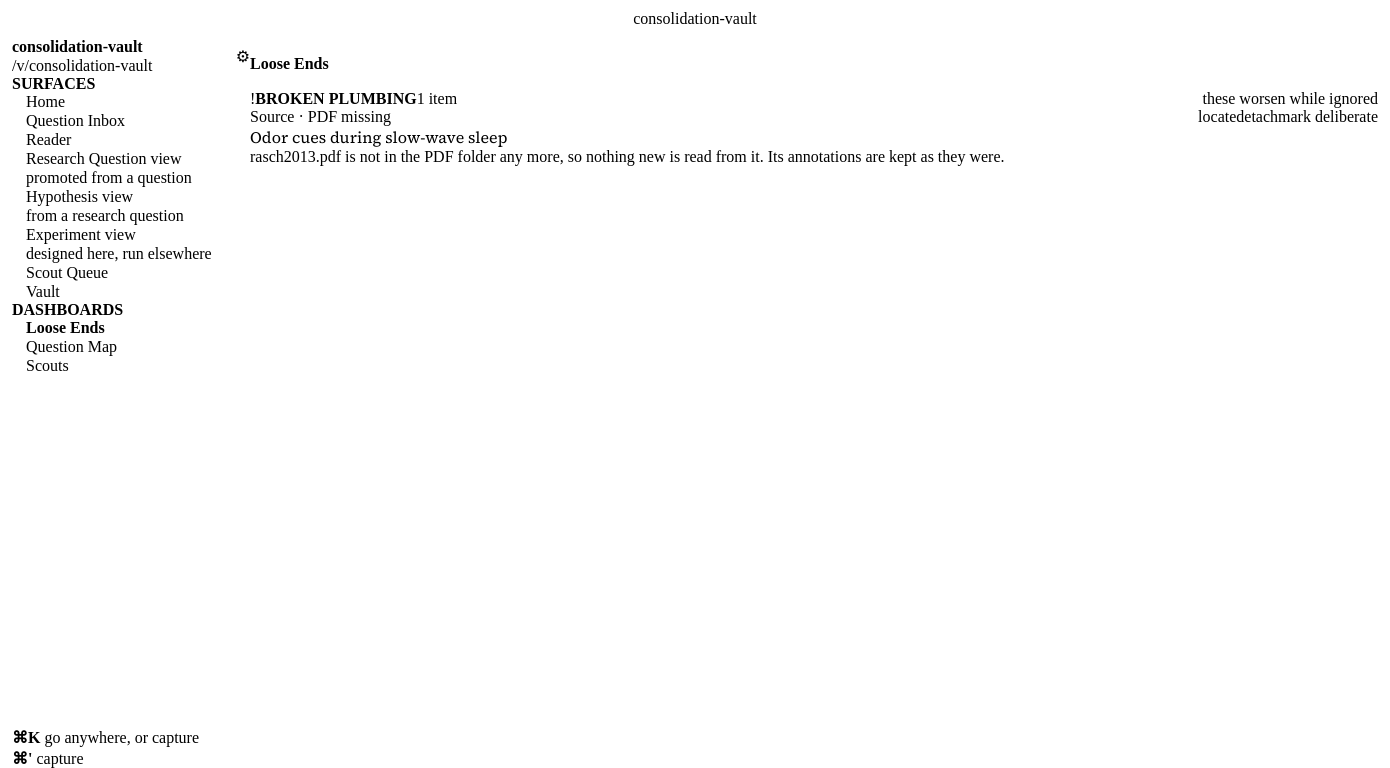
a PDF missing row › says the core's plain refusal when the file is not the same document, and keeps the choices
Click the button "locate" at (1217, 117), box [1198, 108, 1236, 126]
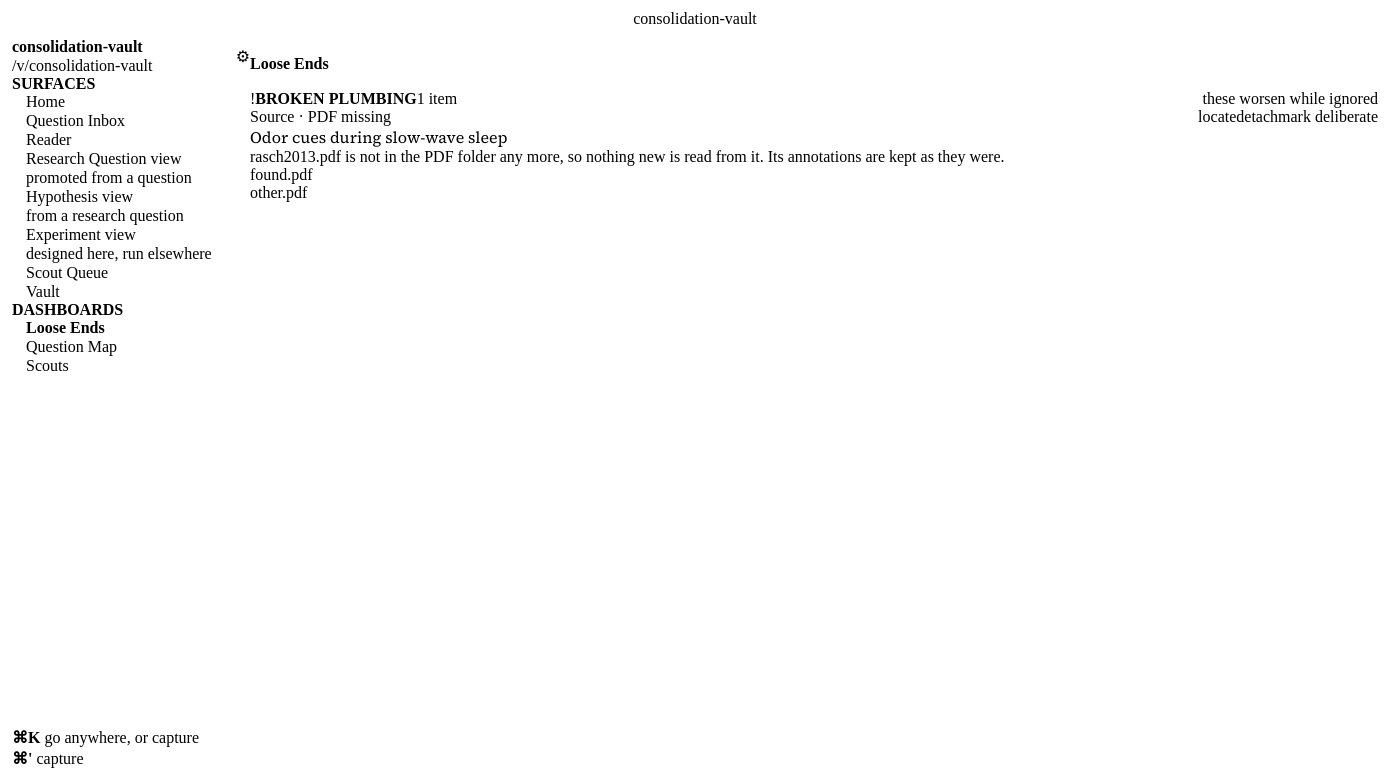
Click the button "other.pdf" at (279, 193), box [250, 184, 307, 202]
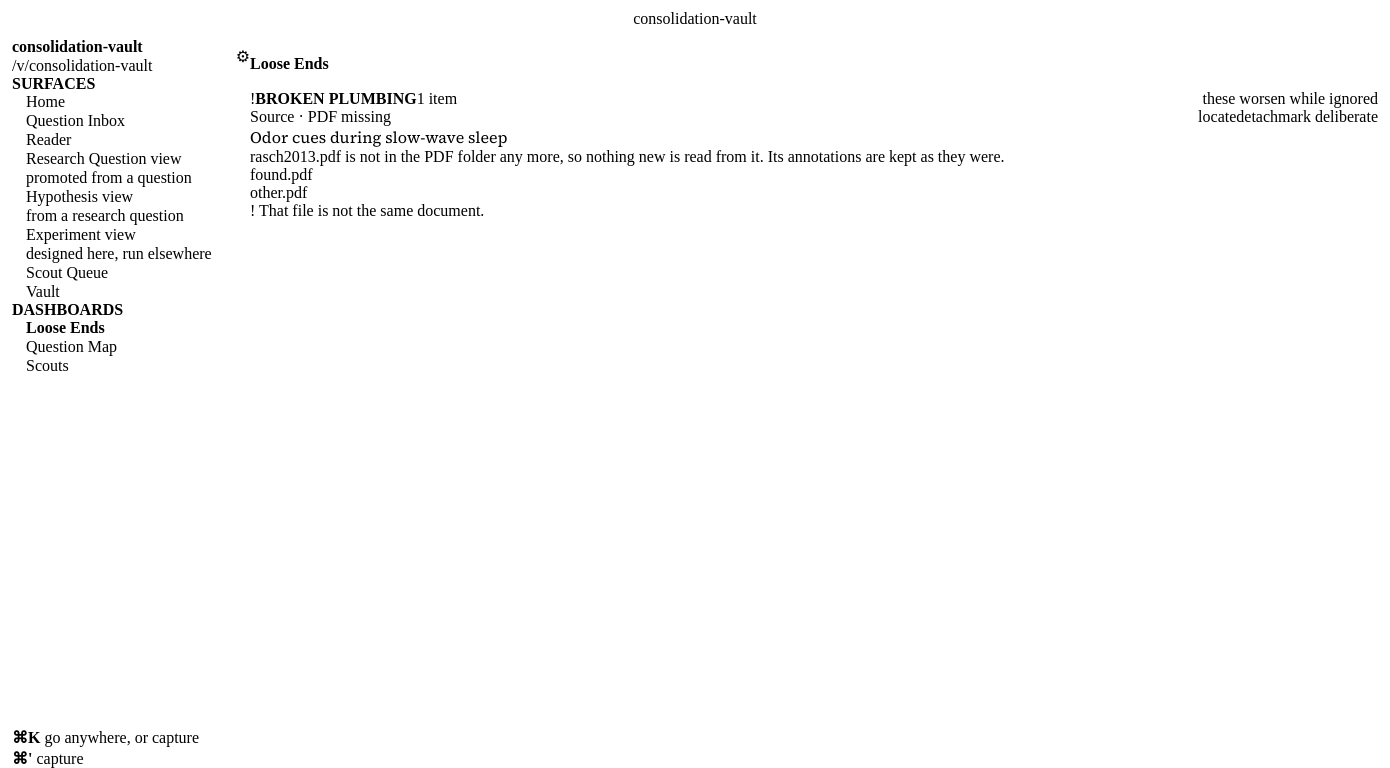
Expected: the button "detach" is shown, [1236, 108, 1278, 126]
Expected: the message shows "not the same document", [259, 202, 484, 219]
